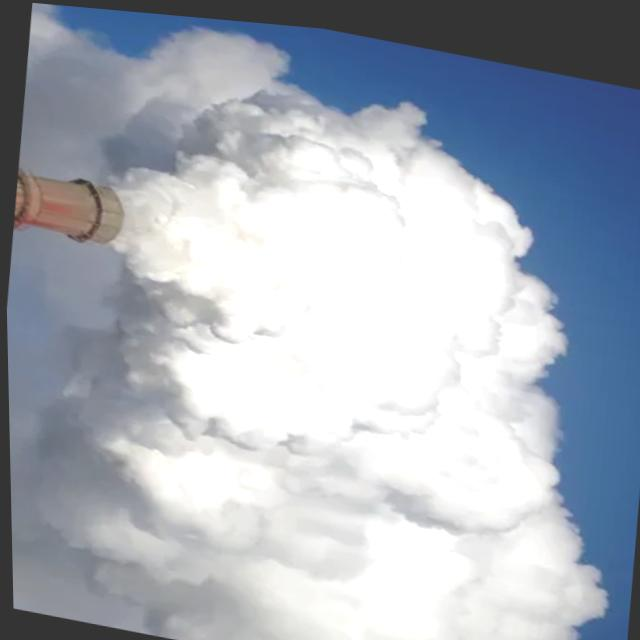Smoke: (69, 16, 640, 640)
